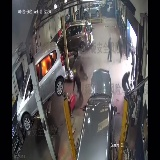fire: (39, 56, 57, 82)
